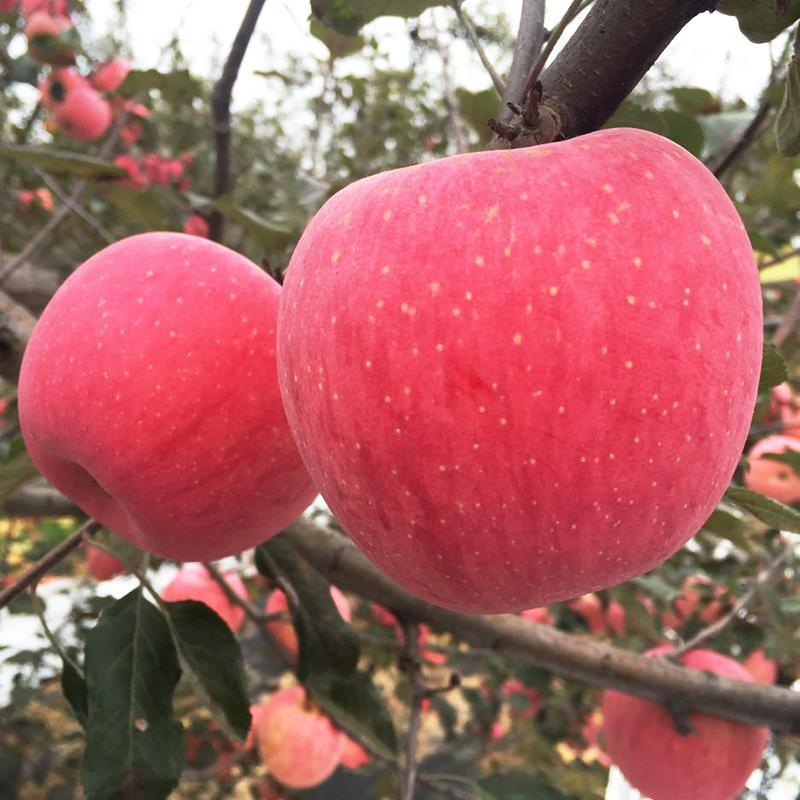apple: (231, 131, 759, 616), (17, 240, 303, 572), (36, 66, 113, 143), (87, 57, 131, 93)
